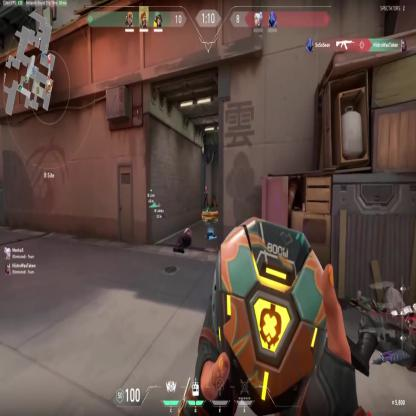enemy: (204, 184, 209, 212)
enemy_head: (205, 185, 207, 191)
